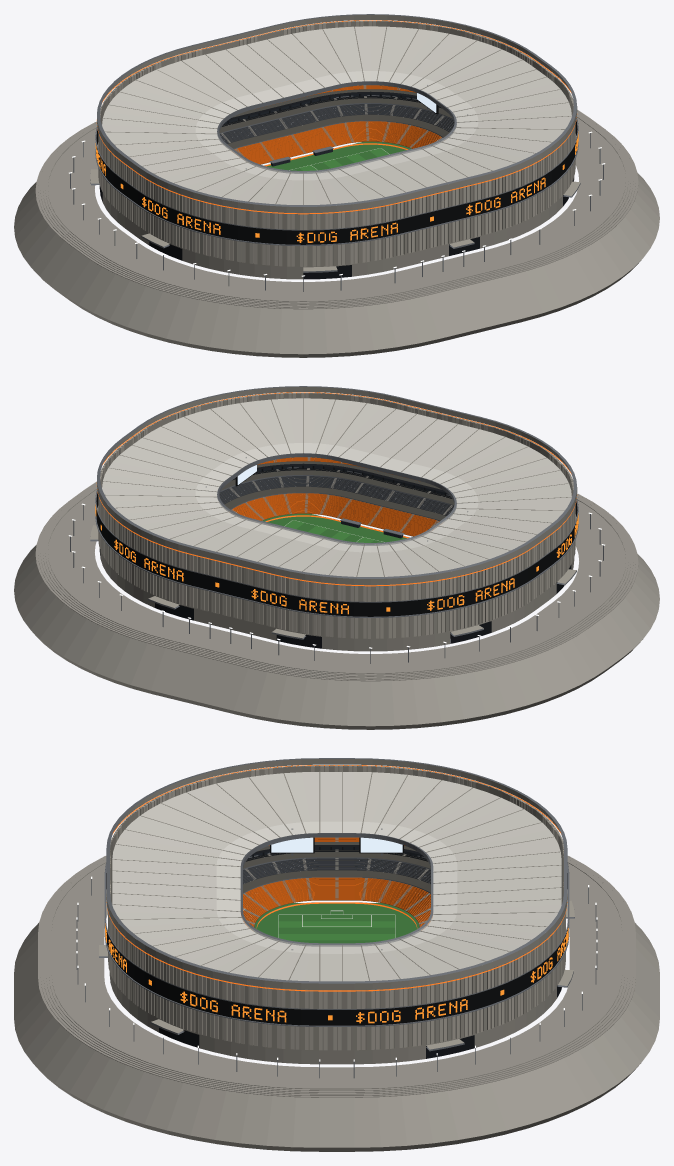
File: dog-arena.glb
3 renders of one model, top to bottom at view 1: azimuth 30°, elevation 25°; view 2: azimuth 150°, elevation 25°; view 3: azimuth 270°, elevation 25°, orthographic. The views are drawn at different scales.
Parts seen in each view (by area): view 1: DOG_ARENA, LETREIRO_FITA; view 2: DOG_ARENA, LETREIRO_FITA; view 3: DOG_ARENA, LETREIRO_FITA.
Boxes of the visible parts, <box> form: DOG_ARENA: <box>14,14,659,357</box>; LETREIRO_FITA: <box>95,131,578,242</box>; DOG_ARENA: <box>14,386,659,729</box>; LETREIRO_FITA: <box>95,504,578,614</box>; DOG_ARENA: <box>14,758,659,1151</box>; LETREIRO_FITA: <box>105,923,568,1023</box>.
Size of the model in its own units: 418 by 84.77 by 376.
